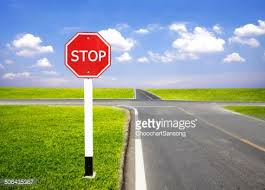stop_sign: (64, 31, 112, 79)
